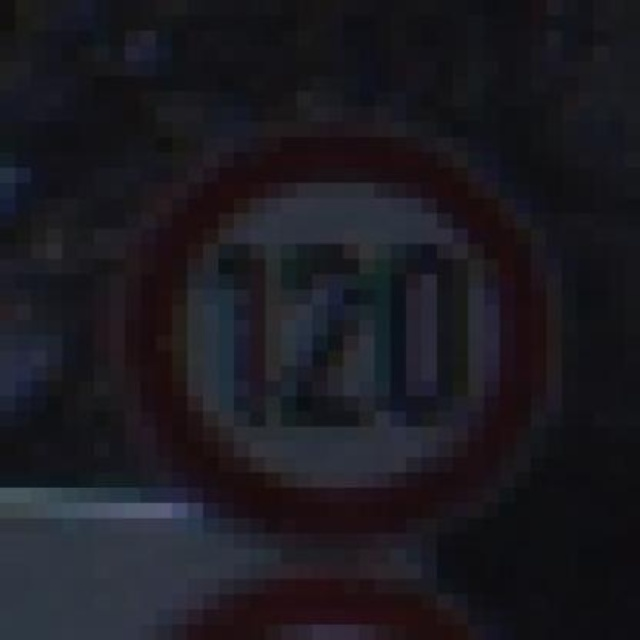Tốc độ tối đa cho phép 120km/h: (136, 133, 547, 538)
